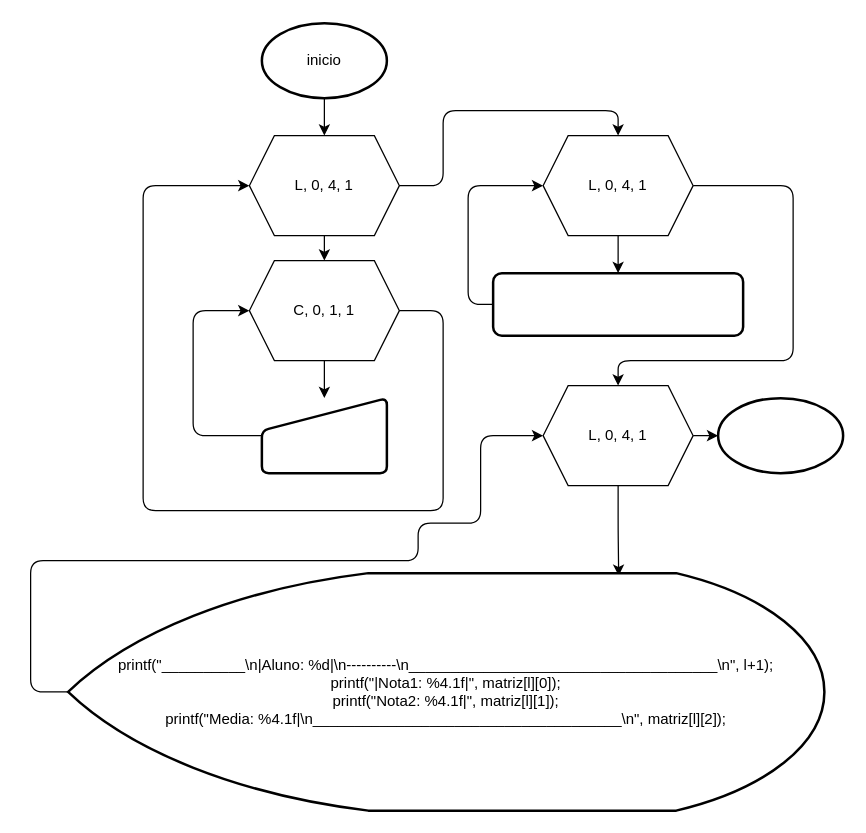
Some shapes in this 866 by 833 pixel diagram are drawn without their labels. Each missing label, with the centre of its shape:
"fim" belongs at pixel 780 435.
"M[L][2] <- ( M[L][2] + M[L][2] ) / 2" belongs at pixel 617 303.
"M[L][C]" belongs at pixel 324 435.
